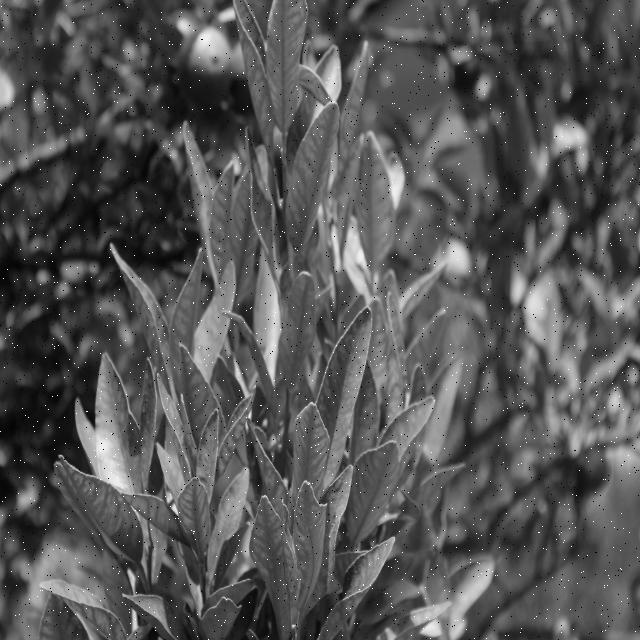greening: (288, 103, 341, 240), (114, 245, 172, 359), (70, 454, 138, 549), (184, 123, 218, 255), (331, 314, 375, 409), (269, 1, 302, 117), (362, 137, 392, 264), (291, 405, 334, 483), (179, 480, 212, 542)
